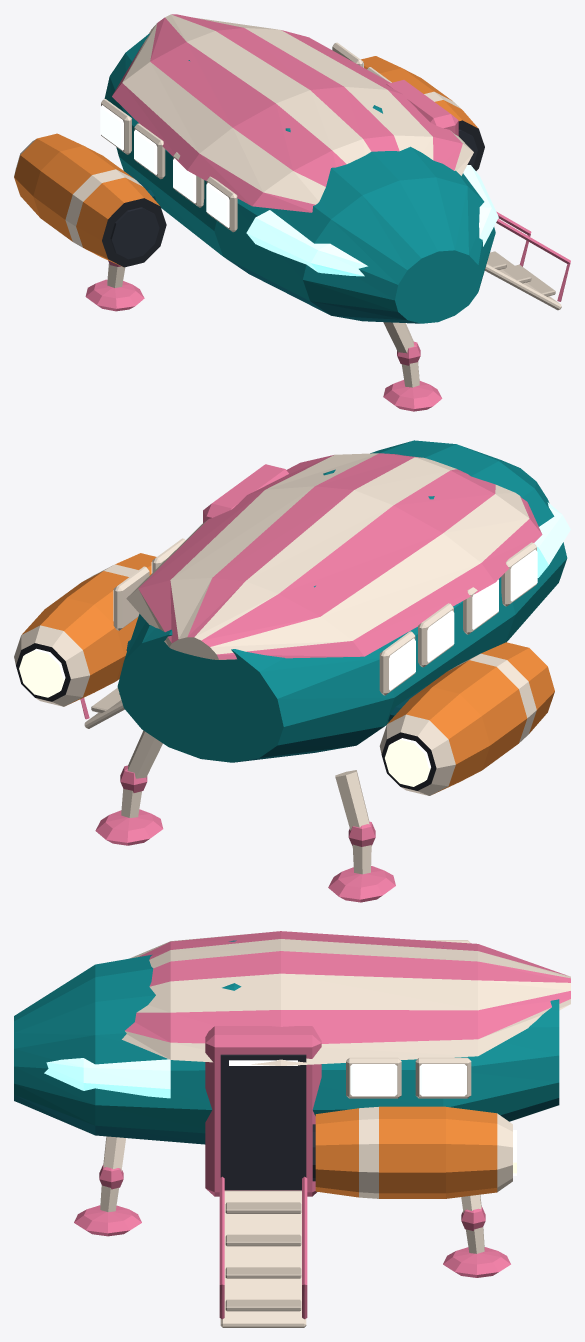
File: cor-p_offen.glb
3 views of the same model, one above another, from view 1: azimuth 30°, elevation 25°; view 2: azimuth 150°, elevation 25°; view 3: azimuth 270°, elevation 25° (orthographic). The views are drawn at different scales.
Parts seen in each view (by area): view 1: muschelpaneele, rumpf, triebwerk_r, fenster, panoramafenster, landebein_1, treppe, triebwerk_l, landebein_3, türmodul; view 2: muschelpaneele, rumpf, triebwerk_r, triebwerk_l, fenster, landebein_3, landebein_2, türmodul, panoramafenster, treppe; view 3: muschelpaneele, rumpf, triebwerk_l, treppe, türöffnung, türmodul, fenster, panoramafenster, landebein_1, landebein_2.
Boxes of the visible parts, x1=… form: muschelpaneele: x1=112, y1=14, x2=473, y2=212; rumpf: x1=104, y1=33, x2=495, y2=323; triebwerk_r: x1=14, y1=133, x2=166, y2=267; fenster: x1=100, y1=42, x2=391, y2=232; panoramafenster: x1=246, y1=165, x2=498, y2=276; landebein_1: x1=383, y1=322, x2=442, y2=411; treppe: x1=485, y1=211, x2=570, y2=310; triebwerk_l: x1=361, y1=56, x2=484, y2=170; landebein_3: x1=85, y1=260, x2=144, y2=311; türmodul: x1=386, y1=80, x2=458, y2=135; muschelpaneele: x1=126, y1=453, x2=542, y2=659; rumpf: x1=117, y1=440, x2=567, y2=762; triebwerk_r: x1=379, y1=642, x2=554, y2=795; triebwerk_l: x1=14, y1=553, x2=156, y2=706; fenster: x1=113, y1=538, x2=537, y2=695; landebein_3: x1=328, y1=770, x2=395, y2=902; landebein_2: x1=95, y1=730, x2=163, y2=845; türmodul: x1=203, y1=464, x2=288, y2=523; panoramafenster: x1=534, y1=502, x2=570, y2=577; treppe: x1=80, y1=687, x2=124, y2=728; muschelpaneele: x1=122, y1=931, x2=570, y2=1065; rumpf: x1=14, y1=940, x2=559, y2=1144; triebwerk_l: x1=312, y1=1106, x2=516, y2=1198; treppe: x1=219, y1=1176, x2=307, y2=1327; türöffnung: x1=220, y1=1054, x2=306, y2=1190; türmodul: x1=205, y1=1026, x2=321, y2=1196; fenster: x1=346, y1=940, x2=471, y2=1098; panoramafenster: x1=44, y1=1058, x2=170, y2=1098; landebein_1: x1=74, y1=1136, x2=141, y2=1236; landebein_2: x1=443, y1=1194, x2=510, y2=1277.
Bounding box in the file's own units: 0.1115 × 0.064 × 0.12.
